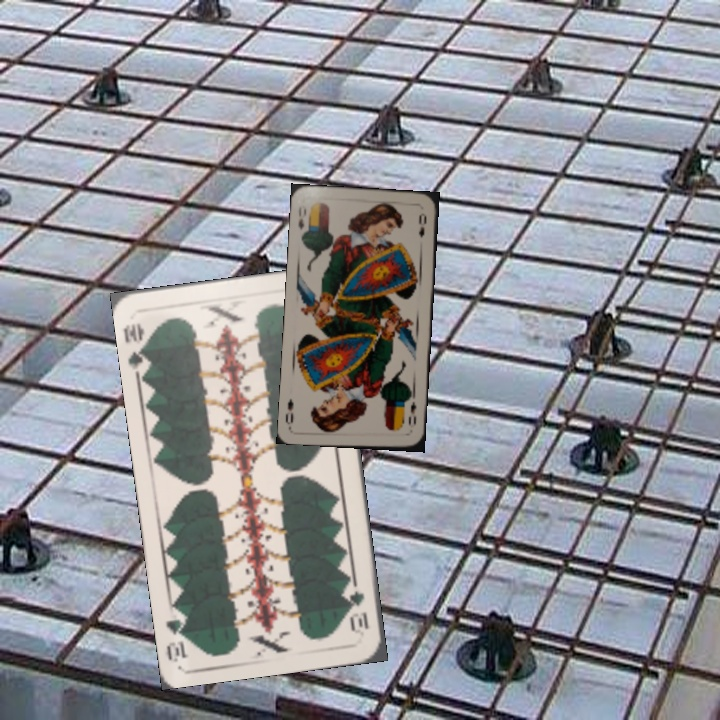EO: (404, 398, 419, 430), (294, 203, 309, 232)
G10: (121, 318, 153, 373), (344, 586, 371, 633)
